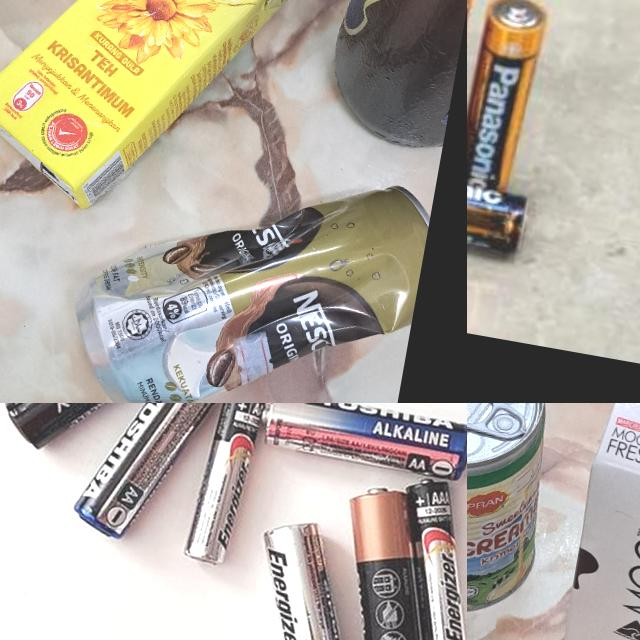aba de lata: (467, 403, 534, 446)
bateria: (70, 403, 236, 553), (315, 478, 462, 640), (230, 513, 391, 640), (257, 403, 467, 483), (467, 0, 550, 194), (376, 473, 467, 640), (182, 403, 269, 568), (0, 403, 206, 472), (467, 142, 534, 263)
caixinha: (0, 0, 309, 240), (535, 403, 640, 640)
garrafa de vidro: (323, 0, 467, 154)
lata: (60, 134, 434, 403), (467, 403, 571, 626)
